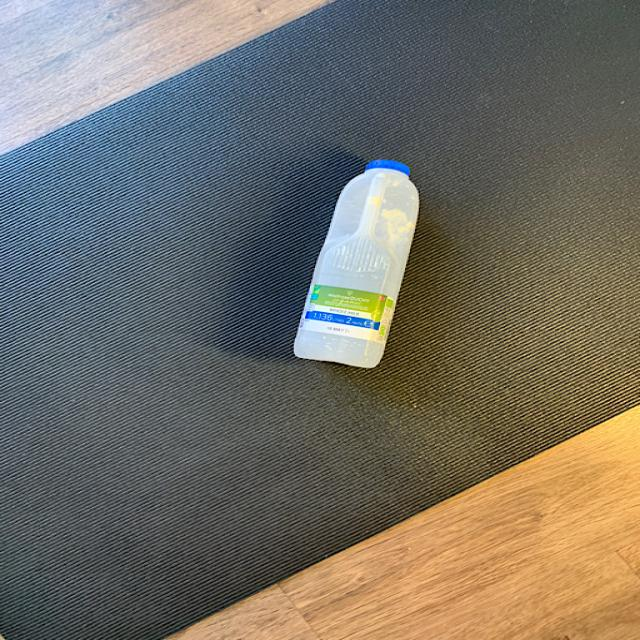litter: (294, 160, 421, 370)
